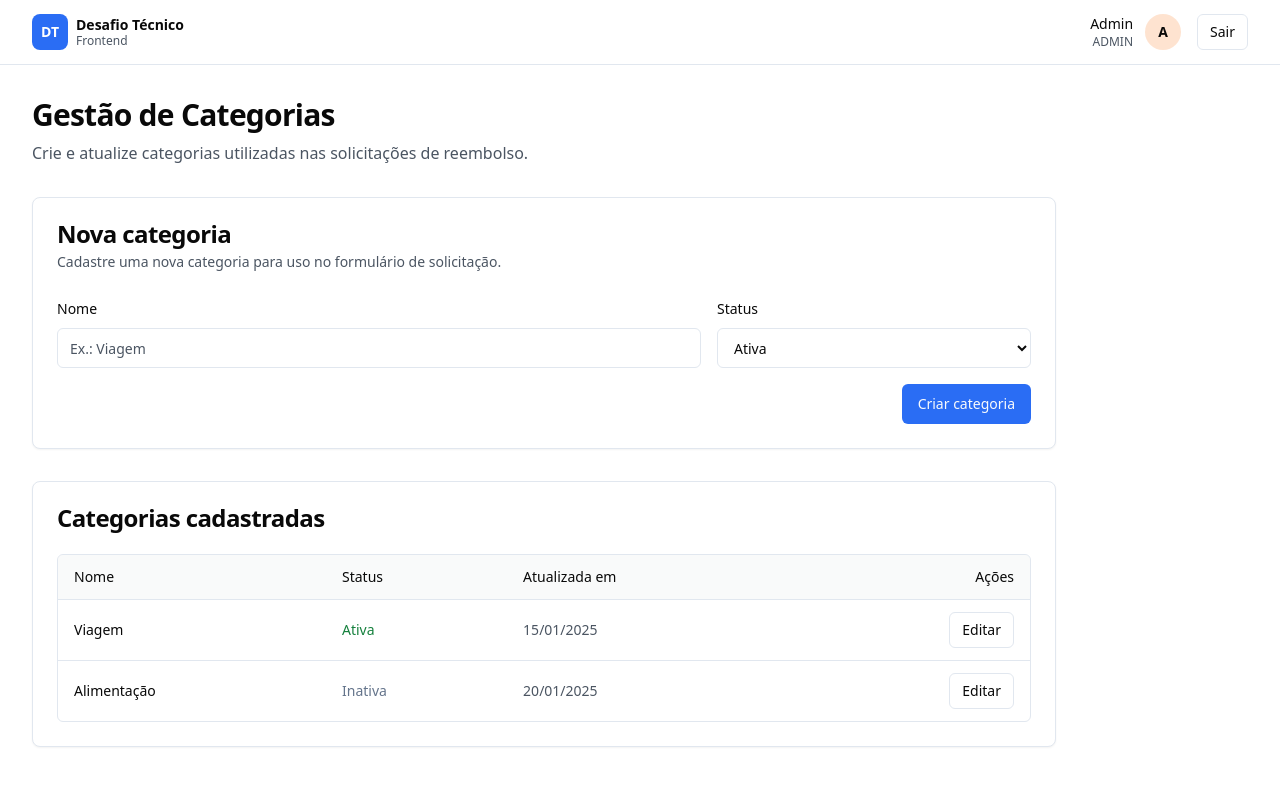
Test: CategoriesPage › valida formulário de criação — nome obrigatório
The width and height of the screenshot is (1280, 800).
Submeter sem preencher o nome
Click the button "Criar categoria" at point(966, 404), box [902,384,1031,424]
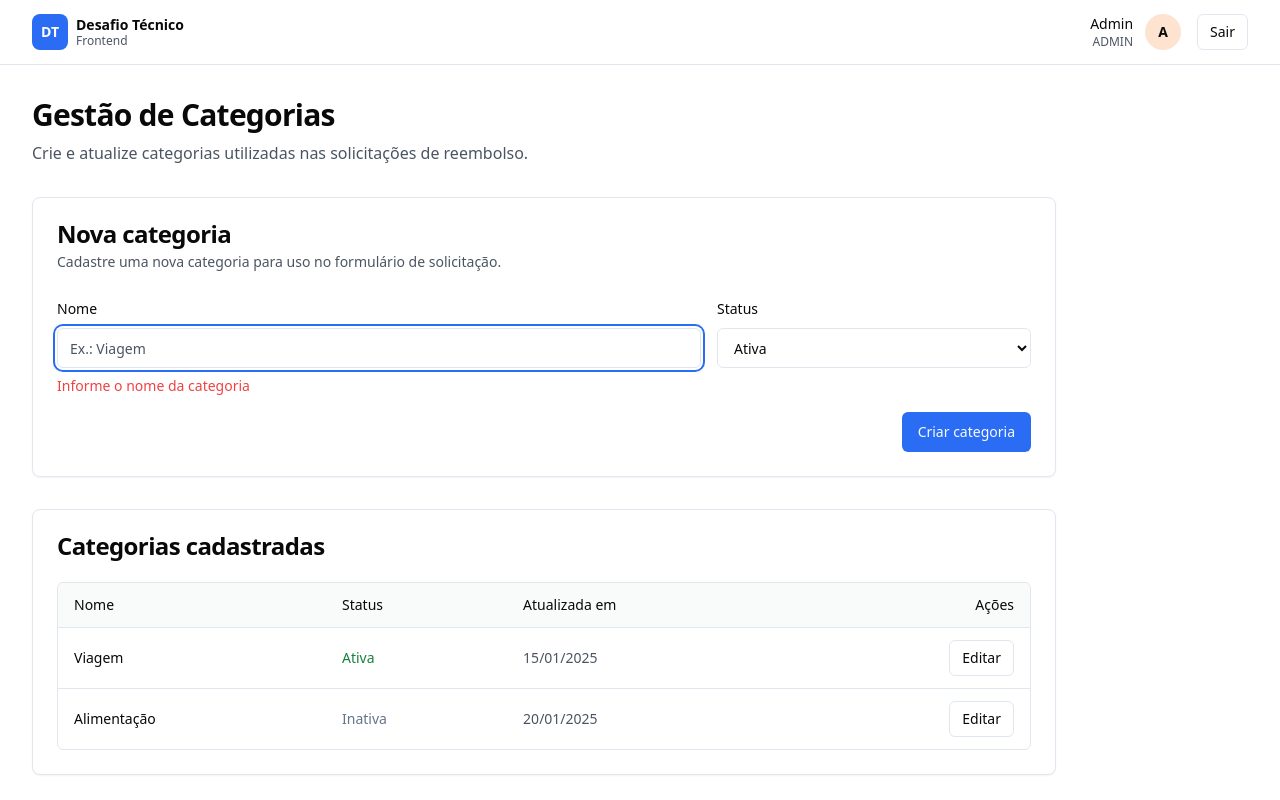
Result: the text "Informe o nome da categoria" is shown at [57,376,250,395]
